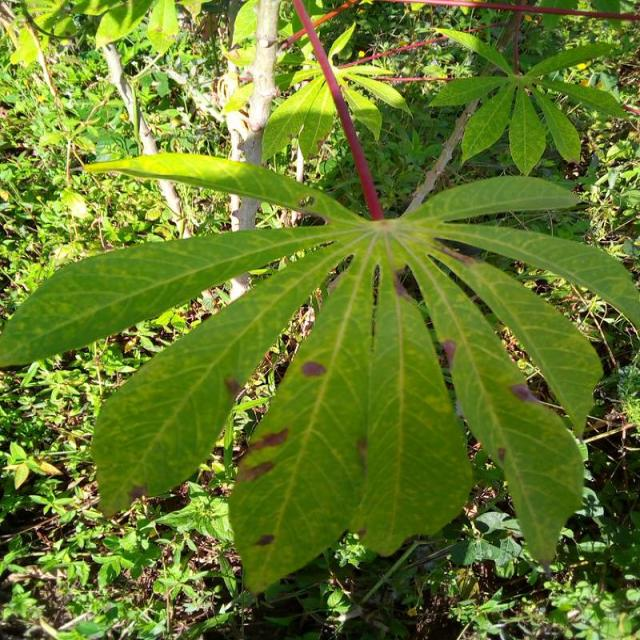cassava leaf: (1, 11, 638, 602), (89, 234, 350, 518)
